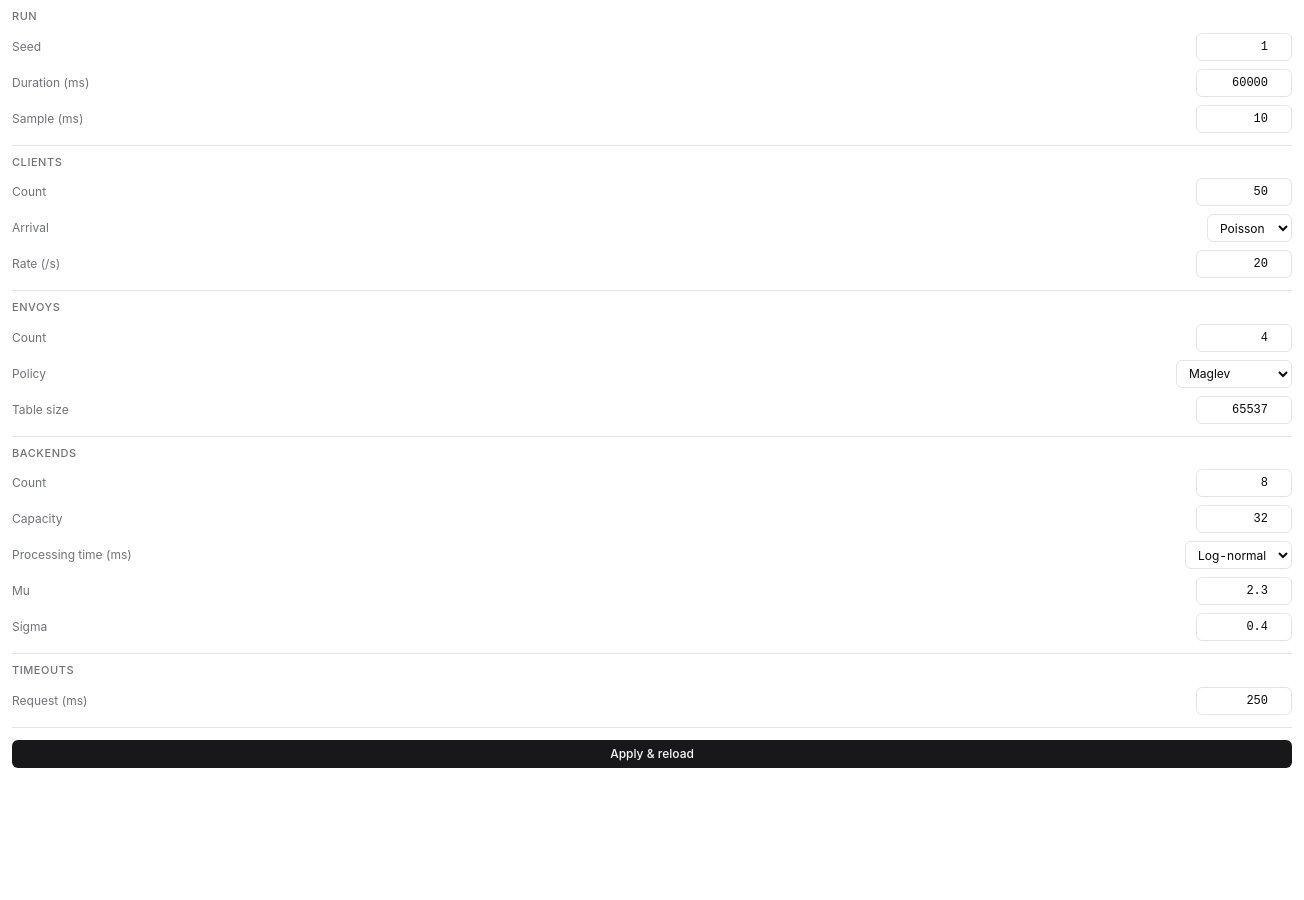
it: ConfigEditor › Backend processing time (latency distribution) › shows correct params for uniform kind
Select "Uniform" in the dropdown named "Backend processing time distribution kind" at (1238, 555), box [1185,541,1292,569]
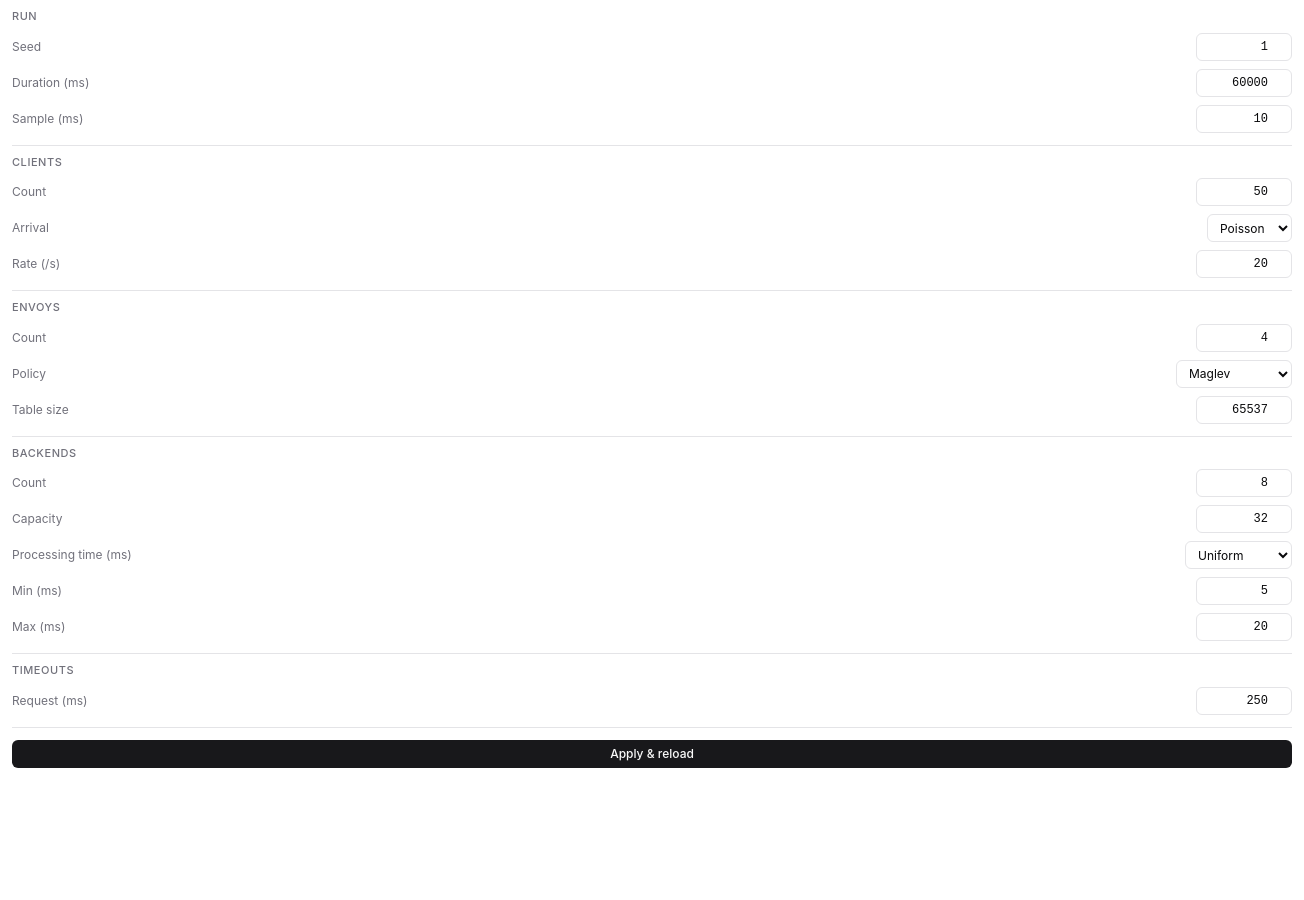
Result: the number field labelled "Min (ms)" is shown at [1196,577,1292,605]
Result: the number field labelled "Max (ms)" is shown at [1196,613,1292,641]
